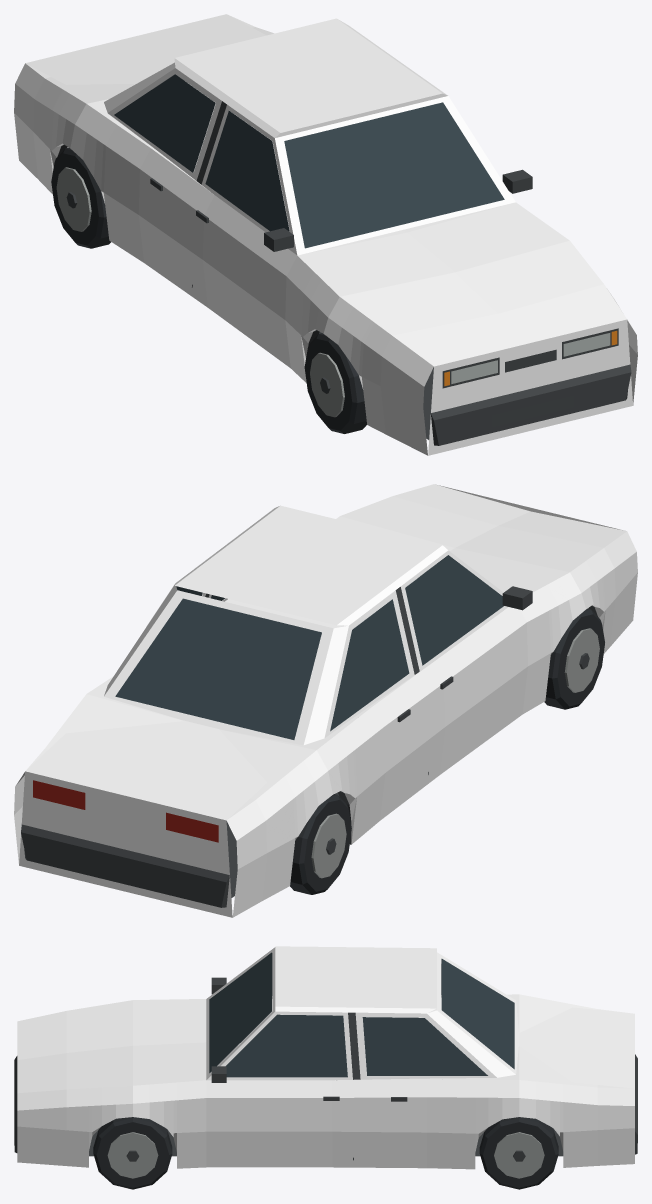
File: sanga_tsukishiro_gts_99.glb
The picture shows the model from 3 angles, top to bottom: view 1: azimuth 30°, elevation 25°; view 2: azimuth 150°, elevation 25°; view 3: azimuth 270°, elevation 25°; orthographic projection. The views are drawn at different scales.
Parts seen in each view (by area): view 1: sanga_tsukishiro_gts_99; view 2: sanga_tsukishiro_gts_99; view 3: sanga_tsukishiro_gts_99.
Boxes of the visible parts, x1,y1,x2,y2 form: sanga_tsukishiro_gts_99: (14,14,637,455); sanga_tsukishiro_gts_99: (14,484,637,917); sanga_tsukishiro_gts_99: (14,946,637,1189).
Bounding box in the file's own units: 1.83 × 1.46 × 4.94.
Materials: 8 (1 with a texture image).
